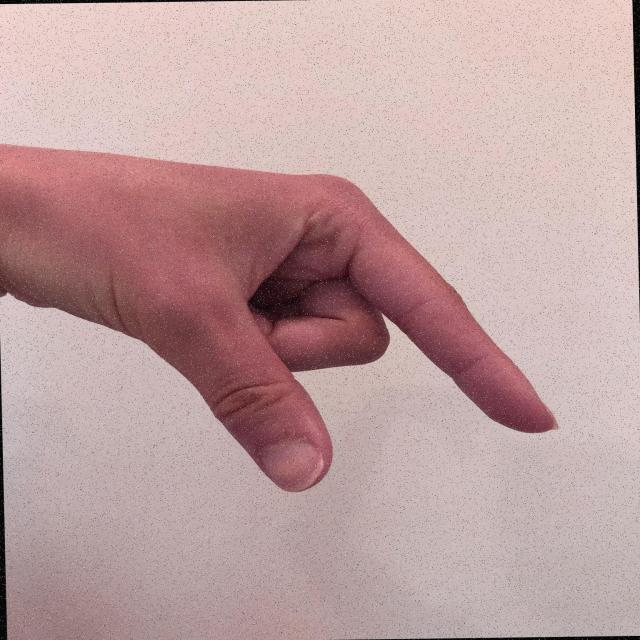Q: (0, 130, 564, 498)
